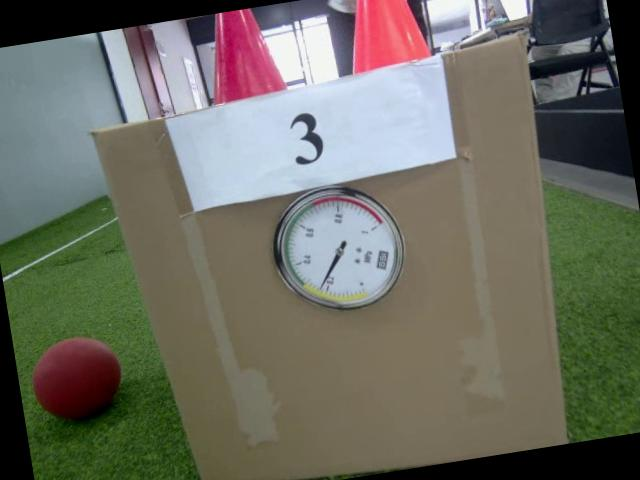3: (280, 108, 330, 168)
Dashboard: (266, 177, 412, 322)
orange_barrel: (338, 0, 431, 71)
red_ball: (29, 331, 127, 427)
red_barrel: (198, 6, 287, 100)
ssi: (369, 248, 394, 273)
